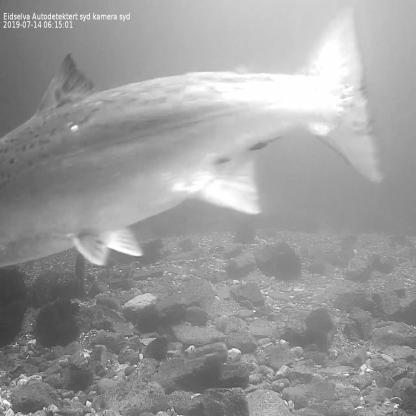salmon: (0, 0, 388, 271)
